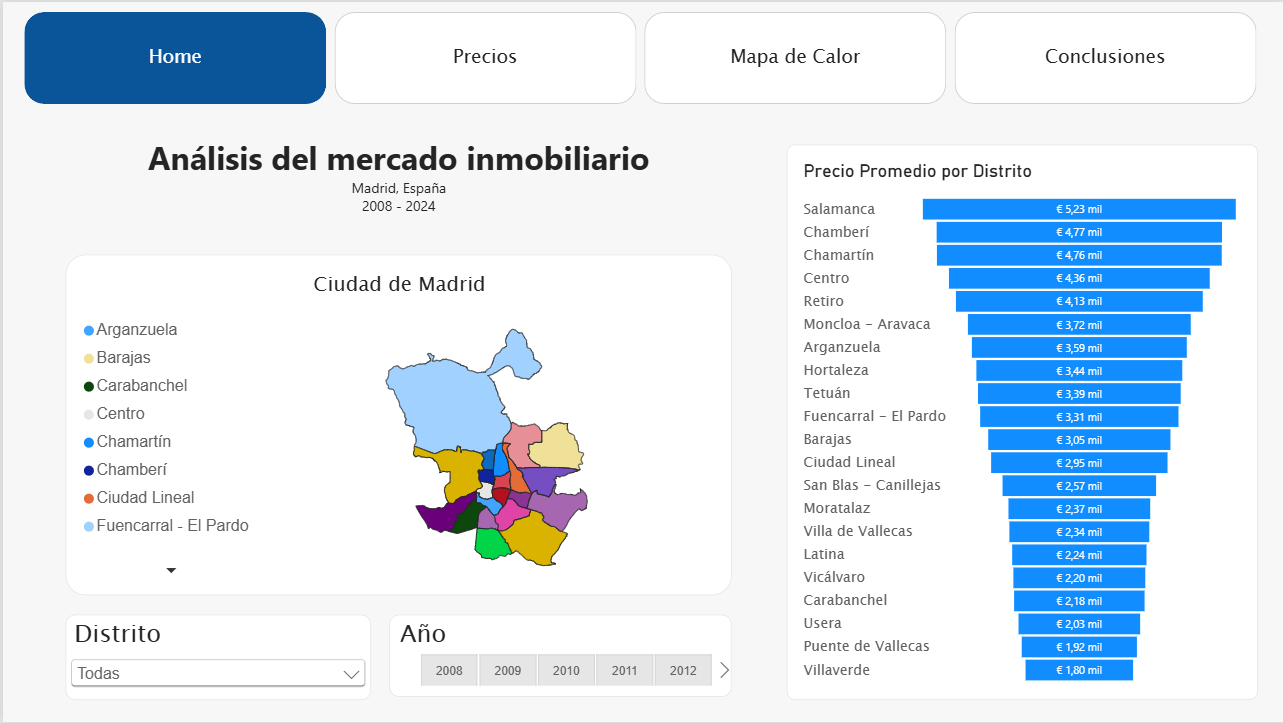

This screenshot's page, from the dashboard's own definition file:
{"tool":"powerbi","page":{"name":"Home","canvas":[1280,720],"ordinal":0},"visuals":[{"type":"textbox","box":[62.2,114.4,666.7,137.8],"z":1000},{"type":"pageNavigator","box":[21.1,10,1234.4,92.2],"z":2000},{"type":"slicer","fields":{"Values":["DimDistrito.Distrito"]},"box":[62.5,612.5,305.6,85.6],"z":3000},{"type":"slicer","title":"Año","fields":{"Values":["DimFecha.Año"]},"box":[386.7,612.2,342.2,82.2],"z":4000},{"type":"funnel","fields":{"Category":["DimDistrito.Distrito"],"Y":["FactPrecios.Precio Promedio"]},"box":[783.8,142.5,471.2,555],"z":5000},{"type":"shapeMap","title":"Ciudad de Madrid","fields":{"Category":["DimDistrito.Distrito"],"Series":["DimDistrito.Distrito"]},"box":[62.2,252.2,666.7,341.1],"z":5001}]}

Visuals, with their boxes in screenshot pixels (x1, y1, x2, y2), scaled from the page's 1280x720 canvas onto the 1283x723 screenshot:
textbox: rect(62, 115, 731, 253)
pageNavigator: rect(21, 10, 1258, 103)
slicer - DimDistrito.Distrito: rect(63, 615, 369, 701)
"Año" slicer: rect(388, 615, 731, 697)
funnel - DimDistrito.Distrito x FactPrecios.Precio Promedio: rect(786, 143, 1258, 700)
"Ciudad de Madrid" shapeMap: rect(62, 253, 731, 596)
